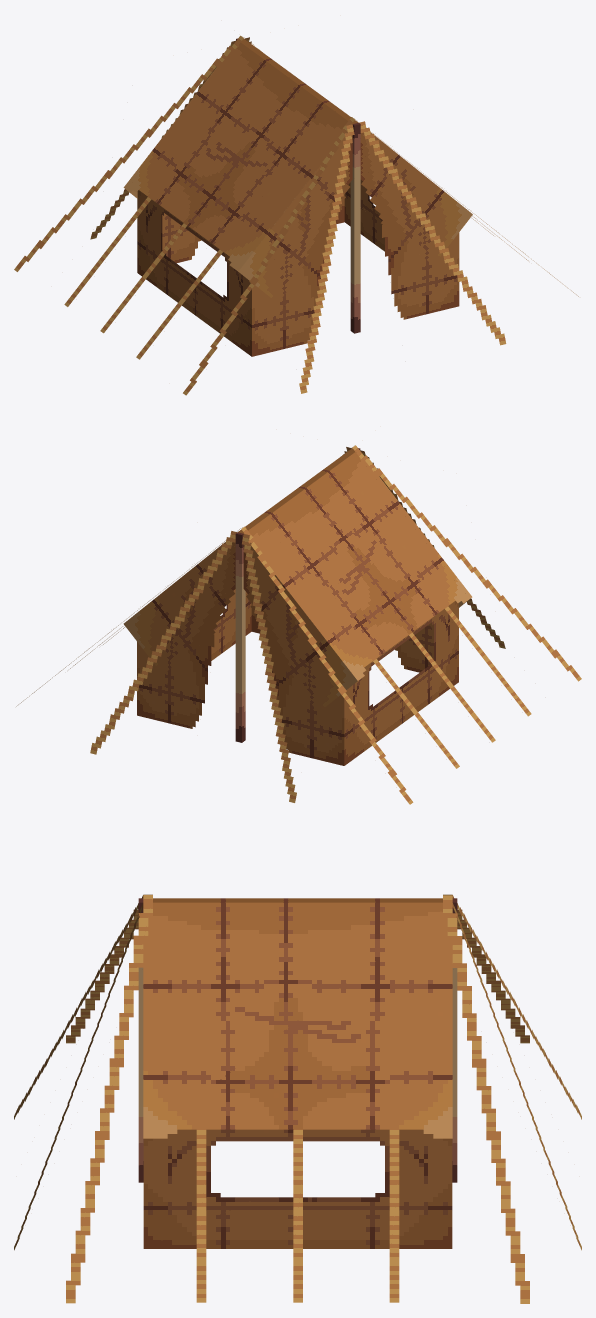
The model's file is large-tent.gltf.
3 views of the same model, one above another, from view 1: azimuth 30°, elevation 25°; view 2: azimuth 150°, elevation 25°; view 3: azimuth 270°, elevation 25° (orthographic). The views are drawn at different scales.
Parts seen in each view (by area): view 1: cube (×18); view 2: cube (×18); view 3: cube (×16).
Part boxes in pixels (left/top/right/bottom): cube (×18): left=14, top=35, right=506, bottom=395; cube (×18): left=90, top=445, right=581, bottom=804; cube (×16): left=14, top=894, right=581, bottom=1303.
Bounding box in the file's own units: 3.99 × 2.06 × 3.67.
Materials: 1 (1 with a texture image).
